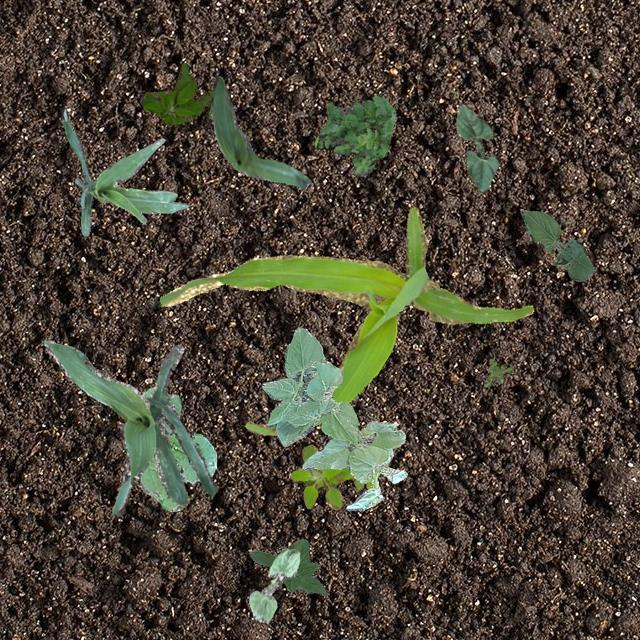crop: (158, 206, 532, 434), (43, 340, 217, 516), (260, 326, 406, 510), (60, 108, 188, 235), (210, 74, 308, 188), (520, 208, 592, 280), (248, 538, 328, 594), (456, 102, 498, 192), (248, 548, 298, 622)
weed: (138, 386, 216, 511), (314, 94, 394, 176), (289, 444, 372, 508), (140, 63, 212, 124), (482, 358, 512, 387)
